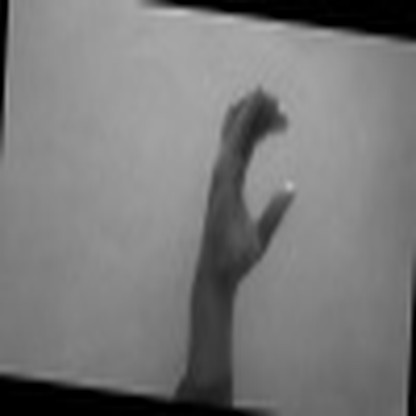c: (193, 82, 302, 278)
